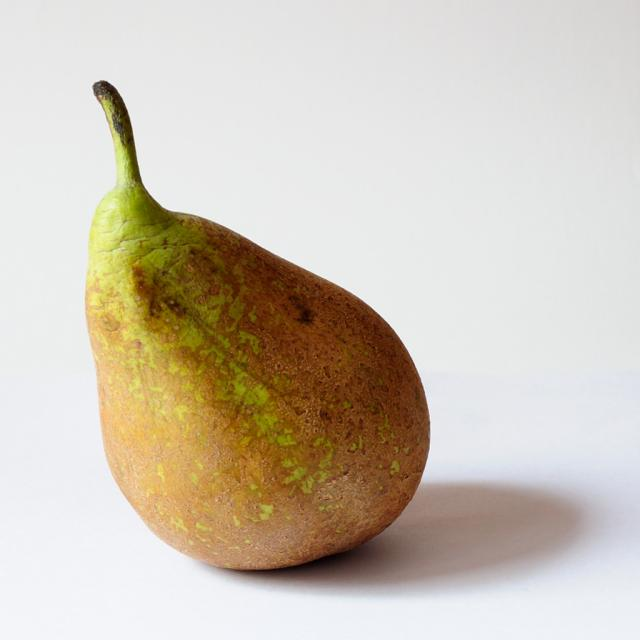pear: (78, 181, 430, 570)
